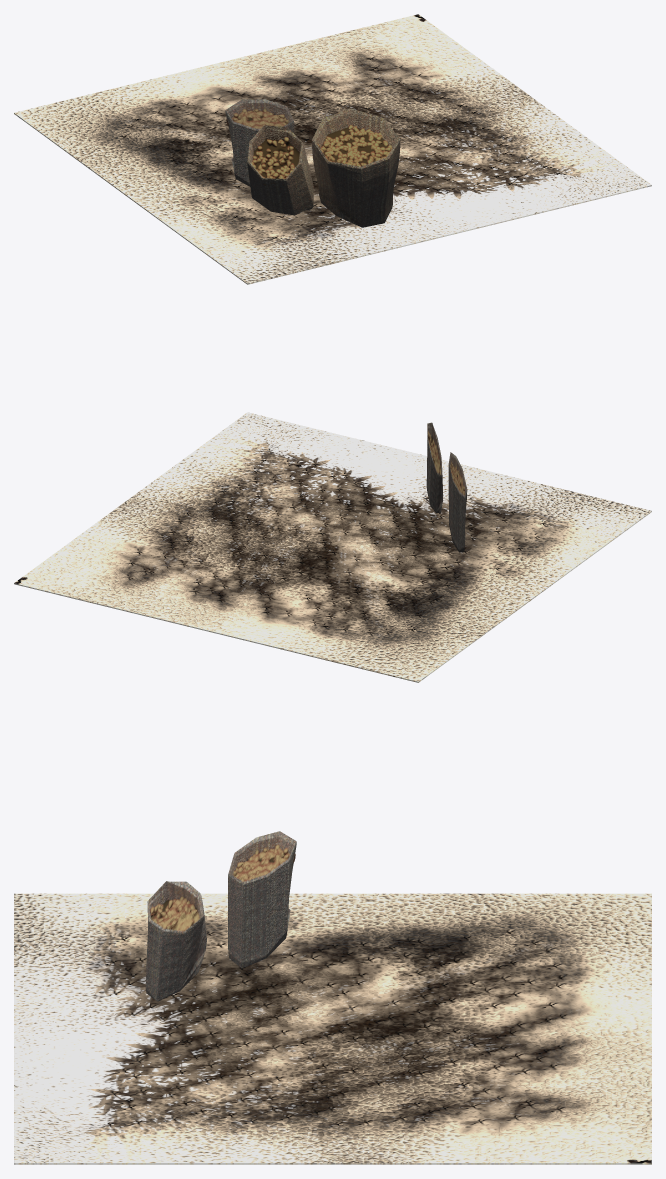
File: Seed.fbx
3 renders of one model, top to bottom at view 1: azimuth 30°, elevation 25°; view 2: azimuth 150°, elevation 25°; view 3: azimuth 270°, elevation 25°, orthographic. The views are drawn at different scales.
Visible parts, largest first — view 1: BillboardFront; view 2: BillboardFront; view 3: BillboardFront.
Boxes of the visible parts, bbox=[...] form: BillboardFront: bbox=[14, 14, 651, 284]; BillboardFront: bbox=[14, 412, 651, 682]; BillboardFront: bbox=[14, 831, 651, 1164].
Bounding box in the file's own units: 400 × 151 × 400.
